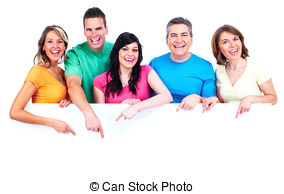face: (77, 5, 112, 51), (161, 15, 196, 61), (211, 22, 248, 65), (39, 22, 68, 65), (112, 30, 142, 71)
